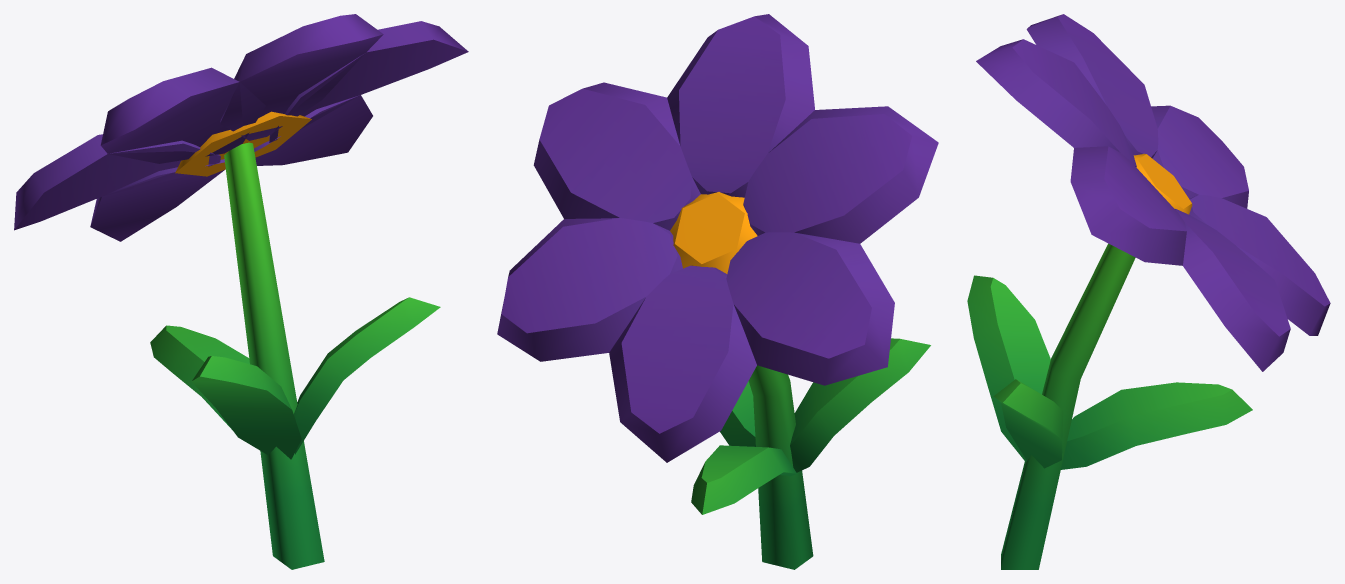
Rendered from Flowers_2_F.glb.
3 renders of one model, left to right at view 1: azimuth 30°, elevation 25°; view 2: azimuth 150°, elevation 25°; view 3: azimuth 270°, elevation 25°, orthographic.
Visible parts, largest first — view 1: Flowers_2_F; view 2: Flowers_2_F; view 3: Flowers_2_F.
Part boxes in pixels (box(x1,y1,x2,y2)): Flowers_2_F: box(14, 14, 468, 569); Flowers_2_F: box(497, 14, 938, 569); Flowers_2_F: box(967, 14, 1330, 569).
Size of the model in its own units: 0.3264 by 0.4195 by 0.2593.
Materials: 1 (1 with a texture image).
